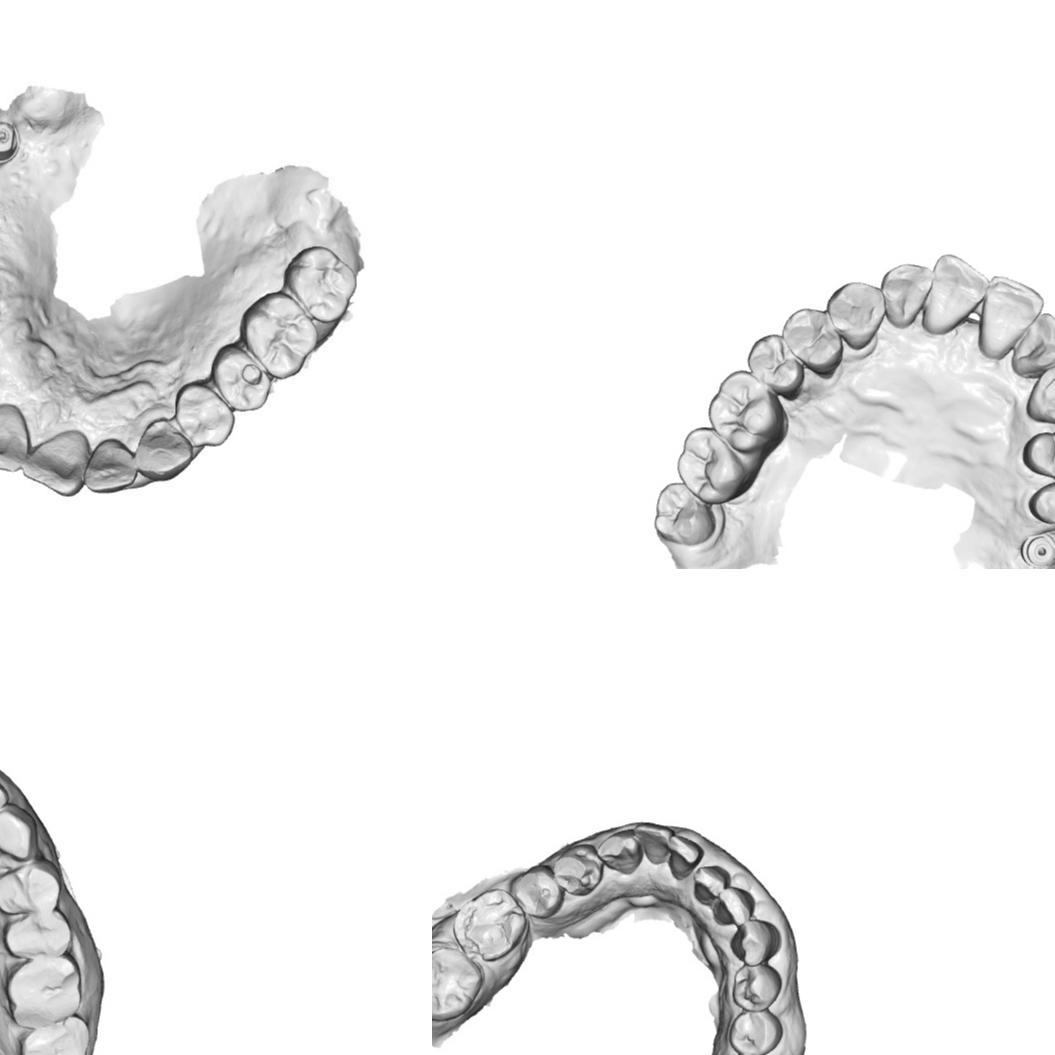canine: (825, 280, 886, 353), (138, 419, 193, 482), (728, 918, 781, 966), (0, 803, 40, 863), (596, 828, 644, 874), (1024, 359, 1055, 425)
implant: (1018, 530, 1055, 569), (0, 116, 23, 165)
incisor: (975, 273, 1046, 361), (920, 252, 991, 339), (21, 432, 89, 496), (881, 259, 936, 330), (1007, 311, 1055, 379), (85, 431, 136, 493), (0, 403, 28, 474), (632, 821, 675, 866), (712, 884, 756, 926), (666, 834, 704, 882), (693, 864, 730, 906), (0, 763, 11, 817)
molar: (706, 368, 787, 456), (240, 290, 319, 380), (675, 425, 759, 506), (279, 243, 357, 324), (4, 955, 83, 1029), (452, 888, 528, 963), (652, 479, 719, 548), (432, 946, 483, 1022), (19, 1014, 94, 1055)
premolar: (779, 305, 846, 378), (173, 375, 234, 449), (745, 332, 807, 401), (210, 344, 269, 413), (0, 908, 75, 962), (0, 863, 62, 917), (509, 864, 565, 920), (552, 843, 604, 897), (727, 1010, 784, 1055), (731, 962, 782, 1012), (1020, 428, 1055, 483), (1025, 477, 1055, 528)
